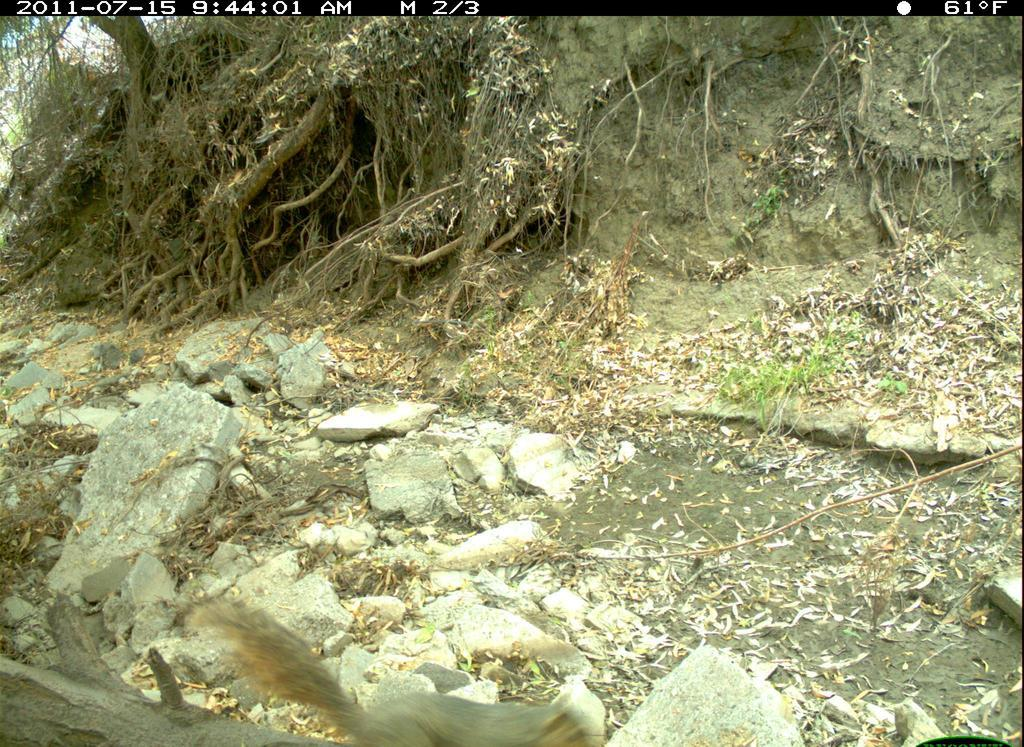squirrel: (189, 587, 644, 747)
